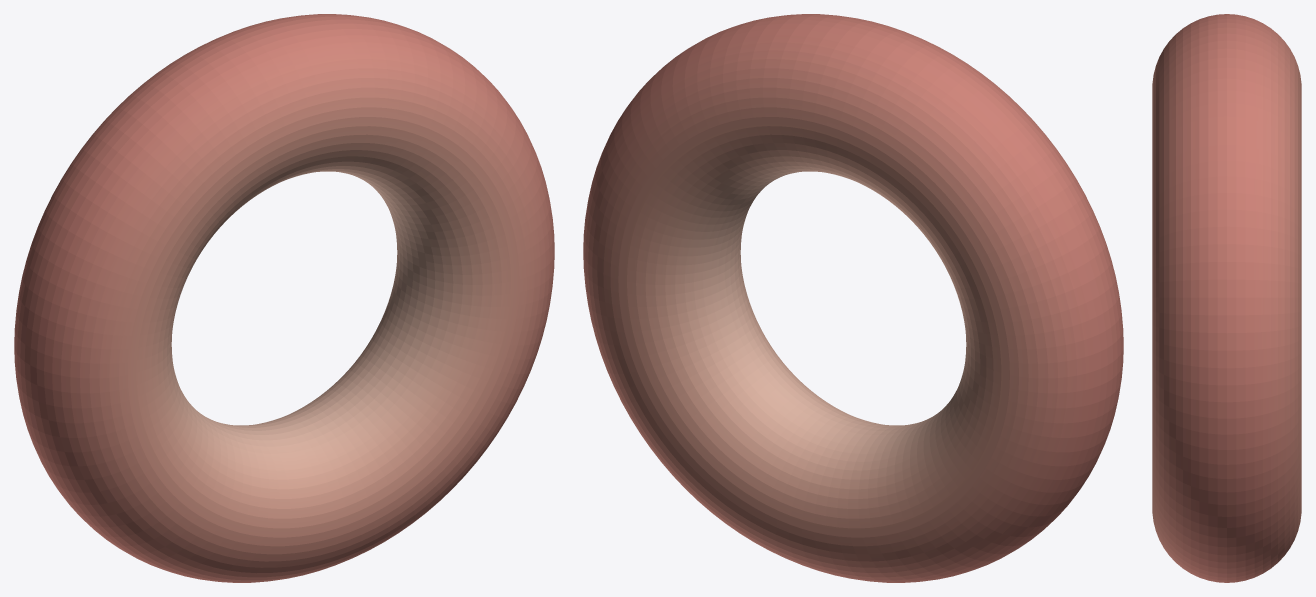
The picture shows the model from 3 angles, left to right: view 1: azimuth 30°, elevation 25°; view 2: azimuth 150°, elevation 25°; view 3: azimuth 270°, elevation 25°; orthographic projection. The views are drawn at different scales.
Parts seen in each view (by area): view 1: world; view 2: world; view 3: world.
Boxes of the visible parts, x1=… form: world: x1=14, y1=14, x2=554, y2=582; world: x1=583, y1=14, x2=1123, y2=582; world: x1=1152, y1=14, x2=1301, y2=582.
Bounding box in the file's own units: 28.93 × 28.93 × 7.59.
